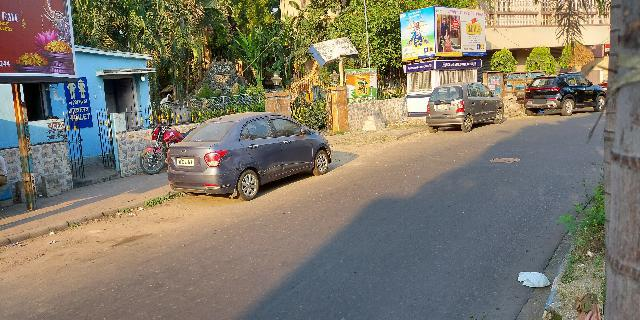Car: (172, 112, 343, 202), (424, 80, 508, 133), (524, 70, 604, 113)
Motorbike: (138, 117, 181, 175)
